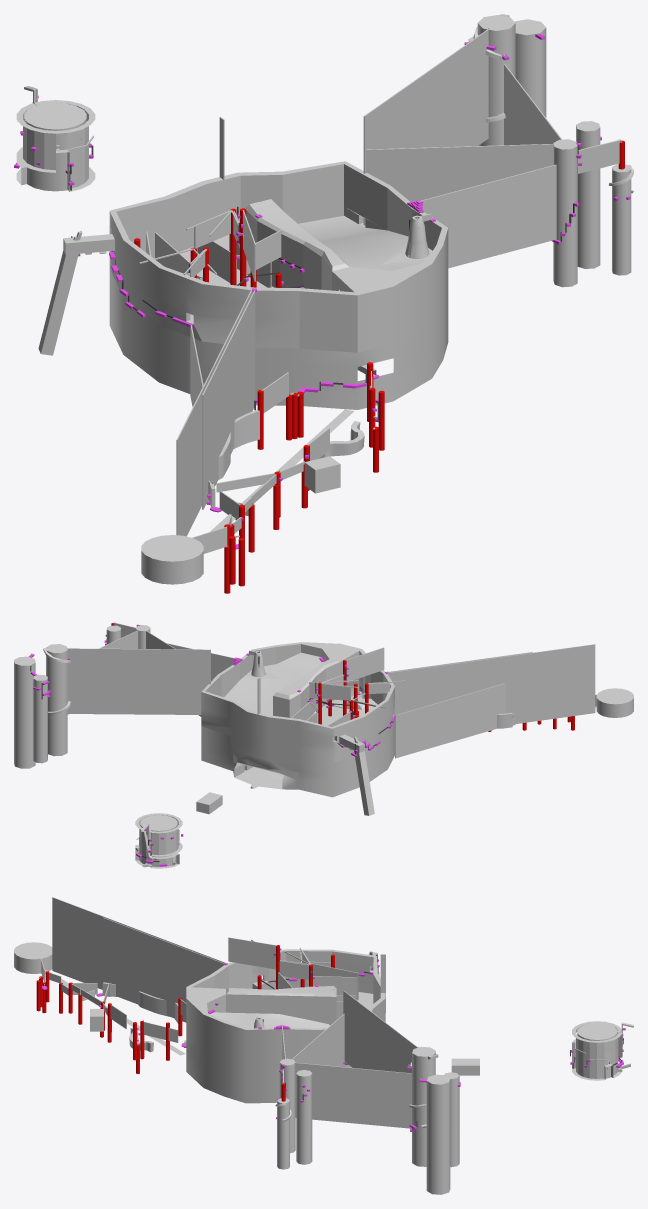
The model's file is Patron_Ile_2.fbx.
3 renders of one model, top to bottom at view 1: azimuth 30°, elevation 25°; view 2: azimuth 150°, elevation 25°; view 3: azimuth 270°, elevation 25°, orthographic. The views are drawn at different scales.
Parts seen in each view (by area): view 1: Ile_strat_>0, Ile_Strat_<0, 15mX7,5m (×2), 19mX9,8m, 13mX6,5m, 54mX27m004, cercle_int001, 54mX27m013, Cylinder033, Cylinder065, Hub, Cylinder034 (+9 smaller); view 2: Ile_strat_>0, 54mX27m013, Ile_Strat_<0, 19mX9,8m, 54mX27m014, Cylinder067, Cylinder034, cercle_int001, Cylinder066, Hub, 54mX27m003, Fallaise_etretat_vertical (+5 smaller); view 3: Ile_strat_>0, 15mX7,5m (×2), 54mX27m004, Ile_Strat_<0, 54mX27m013, 19mX9,8m, Cylinder067, cercle_int001, Cylinder034, Cylinder065, 54mX27m003, Hub (+10 smaller).
Boxes of the visible parts, x1=… form: Ile_strat_>0: x1=109, y1=161, x2=448, y2=352; Ile_Strat_<0: x1=109, y1=216, x2=448, y2=409; 15mX7,5m (×2): x1=366, y1=64, x2=562, y2=226; 19mX9,8m: x1=363, y1=29, x2=488, y2=225; 13mX6,5m: x1=418, y1=164, x2=556, y2=268; 54mX27m004: x1=202, y1=290, x2=255, y2=509; cercle_int001: x1=16, y1=100, x2=95, y2=191; 54mX27m013: x1=176, y1=289, x2=252, y2=536; Cylinder033: x1=553, y1=139, x2=577, y2=287; Cylinder065: x1=576, y1=121, x2=600, y2=268; Hub: x1=141, y1=535, x2=203, y2=584; Cylinder034: x1=477, y1=15, x2=515, y2=145; Ile_strat_>0: x1=201, y1=642, x2=394, y2=762; 54mX27m013: x1=387, y1=644, x2=595, y2=724; Ile_Strat_<0: x1=201, y1=652, x2=394, y2=797; 19mX9,8m: x1=67, y1=648, x2=210, y2=714; 54mX27m014: x1=395, y1=683, x2=505, y2=758; Cylinder067: x1=14, y1=656, x2=35, y2=768; Cylinder034: x1=46, y1=644, x2=67, y2=756; cercle_int001: x1=135, y1=813, x2=182, y2=868; Cylinder066: x1=33, y1=674, x2=47, y2=763; Hub: x1=596, y1=688, x2=633, y2=717; 54mX27m003: x1=345, y1=647, x2=384, y2=682; Fallaise_etretat_vertical: x1=354, y1=750, x2=374, y2=815; Ile_strat_>0: x1=186, y1=949, x2=385, y2=1066; 15mX7,5m (×2): x1=291, y1=1013, x2=411, y2=1128; 54mX27m004: x1=103, y1=917, x2=223, y2=1022; Ile_Strat_<0: x1=186, y1=987, x2=373, y2=1103; 54mX27m013: x1=52, y1=897, x2=226, y2=989; 19mX9,8m: x1=343, y1=991, x2=417, y2=1073; Cylinder067: x1=426, y1=1074, x2=450, y2=1194; cercle_int001: x1=572, y1=1021, x2=622, y2=1080; Cylinder034: x1=412, y1=1046, x2=435, y2=1166; Cylinder065: x1=296, y1=1070, x2=312, y2=1164; 54mX27m003: x1=228, y1=937, x2=277, y2=969; Hub: x1=14, y1=942, x2=52, y2=973.
Bounding box in the file's own units: 65140 × 76474 × 18921.
